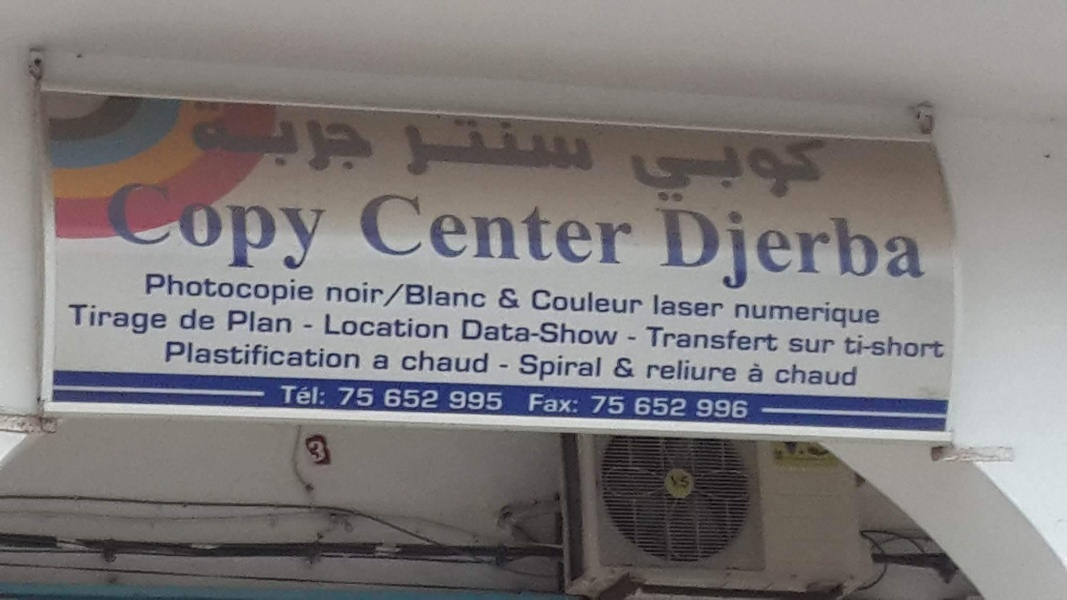text: (657, 203, 672, 297), (673, 203, 688, 297), (689, 203, 704, 297), (705, 203, 720, 297), (721, 203, 736, 297), (737, 203, 752, 297), (753, 203, 768, 297), (769, 203, 784, 297), (785, 203, 800, 297), (801, 203, 816, 297), (817, 203, 832, 297), (833, 203, 848, 297), (849, 203, 864, 297), (865, 203, 880, 297), (881, 203, 896, 297), (897, 203, 912, 297), (913, 203, 928, 297), (113, 180, 128, 272), (129, 180, 144, 272), (145, 180, 160, 272), (161, 180, 176, 272), (177, 180, 192, 272), (193, 180, 208, 272), (209, 180, 224, 272), (225, 180, 240, 272), (241, 180, 256, 272), (257, 180, 272, 272), (273, 180, 288, 272), (289, 180, 304, 272), (305, 180, 320, 272), (321, 180, 336, 272), (369, 190, 384, 269), (385, 190, 400, 269), (401, 190, 416, 269), (417, 190, 432, 269), (433, 190, 448, 269), (449, 190, 464, 269), (465, 190, 480, 269), (481, 190, 496, 269), (497, 190, 512, 269), (513, 190, 528, 269), (529, 190, 544, 269), (545, 190, 560, 269), (561, 190, 576, 269), (577, 190, 592, 269), (593, 190, 608, 269), (609, 190, 624, 269), (193, 99, 208, 175), (209, 99, 224, 175), (225, 99, 240, 175), (241, 99, 256, 175), (257, 99, 272, 175), (273, 99, 288, 175), (289, 99, 304, 175), (305, 99, 320, 175), (321, 99, 336, 175), (337, 99, 352, 175), (353, 99, 368, 175), (417, 114, 432, 183), (433, 114, 448, 183), (449, 114, 464, 183), (465, 114, 480, 183), (481, 114, 496, 183), (497, 114, 512, 183), (513, 114, 528, 183), (529, 114, 544, 183), (545, 114, 560, 183), (561, 114, 576, 183), (577, 114, 592, 183), (641, 135, 656, 203), (657, 135, 672, 203), (673, 135, 688, 203), (689, 135, 704, 203), (705, 135, 720, 203), (721, 135, 736, 203), (737, 135, 752, 203), (753, 135, 768, 203), (769, 135, 784, 203), (785, 135, 800, 203), (801, 135, 816, 203), (626, 135, 640, 203), (625, 190, 637, 269), (403, 114, 416, 183), (817, 135, 828, 203), (105, 180, 112, 272), (360, 190, 368, 269), (145, 271, 160, 308), (161, 271, 176, 308), (177, 271, 192, 308), (193, 271, 208, 308), (209, 271, 224, 308), (225, 271, 240, 308), (241, 271, 256, 308), (257, 271, 272, 308), (273, 271, 288, 308), (289, 271, 304, 308), (737, 295, 752, 332), (753, 295, 768, 332), (769, 295, 784, 332), (785, 295, 800, 332), (801, 295, 816, 332), (817, 295, 832, 332), (833, 295, 848, 332), (849, 295, 864, 332), (865, 295, 880, 332), (369, 99, 376, 175), (305, 271, 319, 308), (657, 322, 672, 356), (673, 322, 688, 356), (689, 322, 704, 356), (705, 322, 720, 356), (721, 322, 736, 356), (737, 322, 752, 356), (753, 322, 768, 356), (81, 303, 96, 337), (97, 303, 112, 337), (113, 303, 128, 337), (129, 303, 144, 337), (145, 303, 160, 337), (545, 284, 560, 317), (561, 284, 576, 317), (577, 284, 592, 317), (593, 284, 608, 317), (609, 284, 624, 317), (625, 284, 640, 317), (177, 338, 192, 371), (193, 338, 208, 371), (209, 338, 224, 371), (225, 338, 240, 371), (241, 338, 256, 371), (257, 338, 272, 371), (273, 338, 288, 371), (289, 338, 304, 371), (305, 338, 320, 371), (321, 338, 336, 371), (337, 338, 352, 371), (529, 352, 544, 384), (545, 352, 560, 384), (561, 352, 576, 384), (577, 352, 592, 384), (529, 319, 544, 349), (545, 319, 560, 349), (561, 319, 576, 349), (577, 319, 592, 349), (593, 319, 608, 349), (337, 312, 352, 342), (353, 312, 368, 342), (369, 312, 384, 342), (385, 312, 400, 342), (401, 312, 416, 342), (417, 312, 432, 342), (433, 312, 448, 342), (67, 303, 80, 337), (337, 279, 352, 308), (353, 279, 368, 308), (369, 279, 384, 308), (531, 284, 544, 317), (385, 282, 400, 310), (401, 282, 416, 310), (417, 282, 432, 310), (433, 282, 448, 310), (449, 282, 464, 310), (465, 282, 480, 310), (769, 322, 781, 356), (657, 292, 672, 319), (673, 292, 688, 319), (689, 292, 704, 319), (705, 292, 720, 319), (849, 333, 864, 360), (865, 333, 880, 360), (881, 333, 896, 360), (897, 333, 912, 360), (913, 333, 928, 360), (929, 333, 944, 360), (465, 318, 480, 344), (481, 318, 496, 344), (497, 318, 512, 344), (513, 318, 528, 344), (307, 437, 320, 466), (241, 309, 256, 334), (257, 309, 272, 334), (273, 309, 288, 334), (417, 348, 432, 373), (433, 348, 448, 373), (449, 348, 464, 373), (465, 348, 480, 373), (645, 322, 656, 356), (337, 180, 341, 272), (609, 319, 621, 349), (657, 357, 672, 381), (673, 357, 688, 381), (689, 357, 704, 381), (705, 357, 720, 381), (721, 357, 736, 381), (785, 363, 800, 387), (801, 363, 816, 387), (817, 363, 832, 387), (833, 363, 848, 387), (289, 383, 304, 407), (305, 383, 320, 407), (353, 385, 368, 409), (593, 352, 604, 384), (370, 349, 384, 374), (593, 114, 598, 183), (193, 308, 208, 331), (338, 385, 352, 409), (325, 312, 336, 342), (166, 338, 176, 371), (449, 390, 464, 412), (465, 390, 480, 412), (481, 390, 496, 412), (545, 393, 560, 415), (561, 393, 576, 415), (593, 394, 608, 416), (609, 394, 624, 416), (403, 348, 416, 373), (385, 388, 400, 409), (401, 388, 416, 409), (417, 388, 432, 409), (530, 393, 544, 415), (228, 309, 240, 334), (801, 336, 816, 356), (817, 336, 832, 356), (641, 397, 656, 417), (657, 397, 672, 417), (705, 399, 720, 419), (721, 399, 736, 419), (353, 338, 362, 371), (321, 437, 331, 466), (929, 203, 932, 297), (481, 282, 491, 310), (673, 397, 687, 417), (737, 399, 751, 419), (500, 286, 512, 309), (625, 357, 637, 380), (161, 303, 169, 337), (645, 357, 656, 381), (327, 279, 336, 308), (181, 308, 192, 331), (613, 357, 624, 380), (753, 362, 764, 385), (849, 363, 859, 387), (673, 473, 688, 489), (481, 348, 490, 373), (790, 336, 800, 356), (522, 352, 528, 384), (776, 363, 784, 387), (280, 383, 288, 407), (321, 383, 329, 407), (654, 203, 656, 297), (881, 295, 886, 332), (513, 286, 521, 309), (433, 388, 441, 409), (497, 390, 504, 412), (190, 99, 192, 175), (385, 349, 391, 374), (697, 399, 704, 419), (209, 308, 215, 331), (746, 362, 752, 385), (641, 284, 645, 317), (459, 318, 464, 344), (449, 312, 453, 342), (500, 362, 512, 372), (369, 385, 374, 409), (626, 333, 640, 341), (721, 292, 725, 319), (653, 292, 656, 319), (845, 333, 848, 360), (305, 323, 315, 331), (833, 336, 837, 356), (636, 397, 640, 417), (529, 318, 532, 344), (289, 309, 292, 334), (734, 295, 736, 332), (577, 393, 580, 415), (589, 394, 592, 416), (945, 333, 947, 360), (737, 357, 739, 381), (625, 394, 627, 416), (689, 473, 691, 489), (385, 279, 386, 308), (302, 323, 304, 331), (671, 473, 672, 489)
